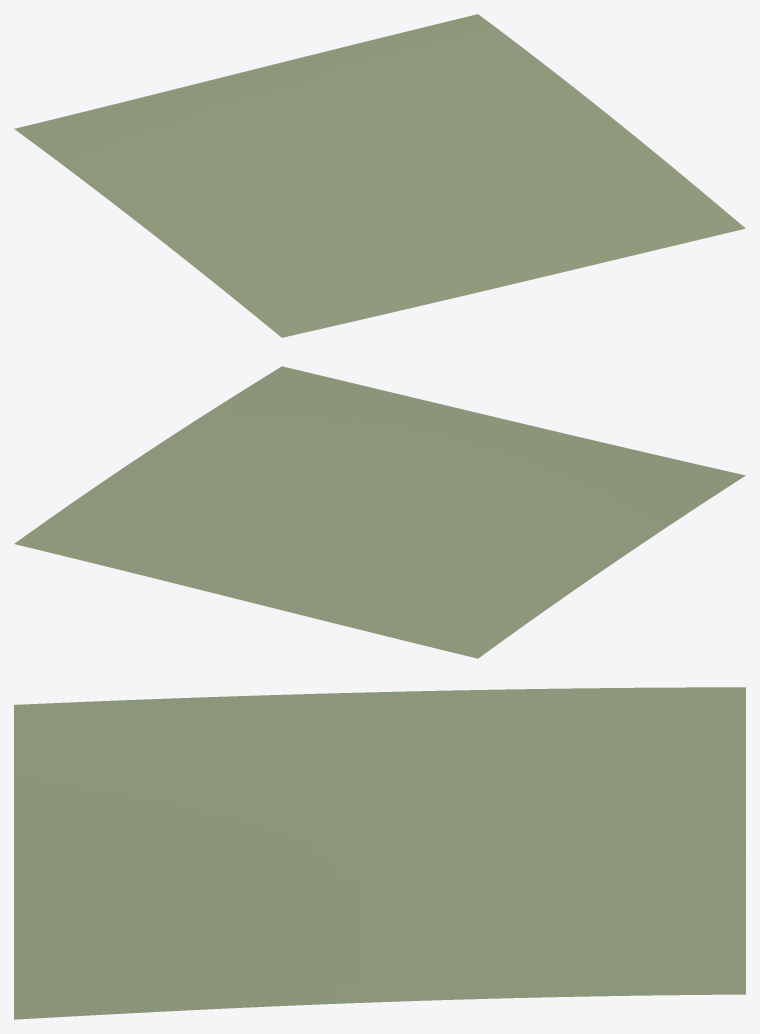
The model's file is desert-5-17.glb.
3 renders of one model, top to bottom at view 1: azimuth 30°, elevation 25°; view 2: azimuth 150°, elevation 25°; view 3: azimuth 270°, elevation 25°, orthographic. The views are drawn at different scales.
Visible parts, largest first — view 1: desert-5-17; view 2: desert-5-17; view 3: desert-5-17.
Boxes of the visible parts, box(x1,y1,x2,y2) form: desert-5-17: box(14, 14, 745, 337); desert-5-17: box(14, 366, 745, 658); desert-5-17: box(14, 687, 745, 1019).
Size of the model in its own units: 512 by 19.4 by 512.
